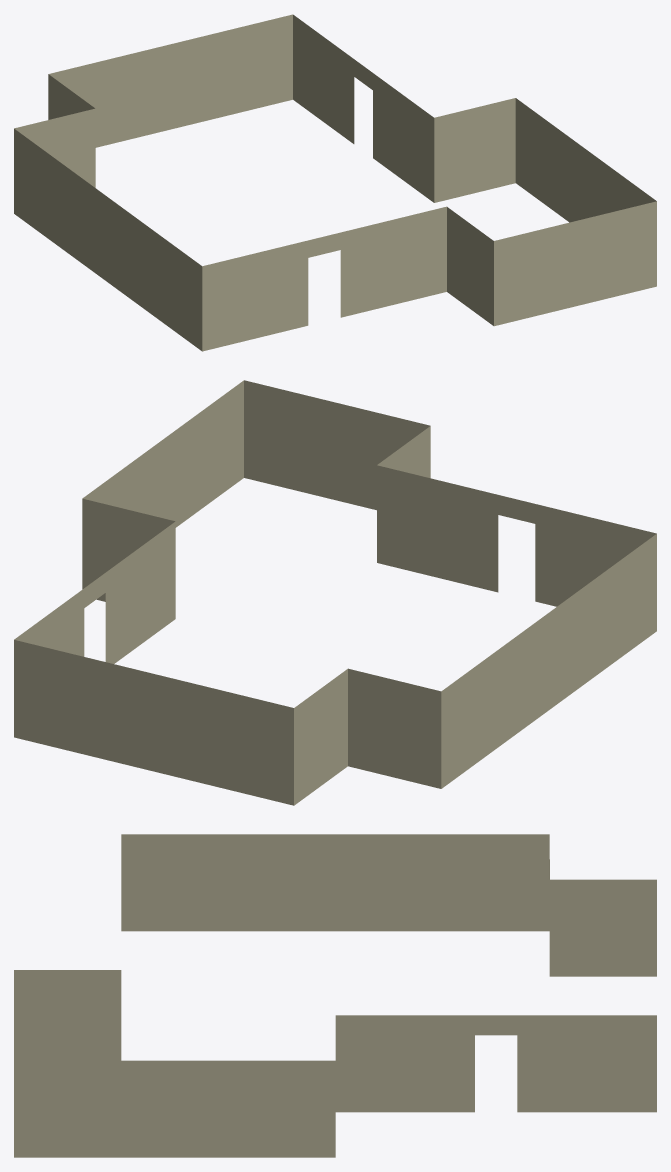
File: Homeworld_Interior_Md_Room_F_Filling_01_Vo.fbx
The picture shows the model from 3 angles, top to bottom: view 1: azimuth 30°, elevation 25°; view 2: azimuth 150°, elevation 25°; view 3: azimuth 270°, elevation 25°; orthographic projection. The views are drawn at different scales.
Visible parts, largest first — view 1: Homeworld_Interior_Md_Room_F_Filling_01_Vo; view 2: Homeworld_Interior_Md_Room_F_Filling_01_Vo; view 3: Homeworld_Interior_Md_Room_F_Filling_01_Vo.
Boxes of the visible parts, left/top/right/bottom form: Homeworld_Interior_Md_Room_F_Filling_01_Vo: left=14, top=14, right=656, bottom=351; Homeworld_Interior_Md_Room_F_Filling_01_Vo: left=14, top=380, right=656, bottom=805; Homeworld_Interior_Md_Room_F_Filling_01_Vo: left=14, top=834, right=656, bottom=1157.
Bounding box in the file's own units: 25 × 5 × 30.
